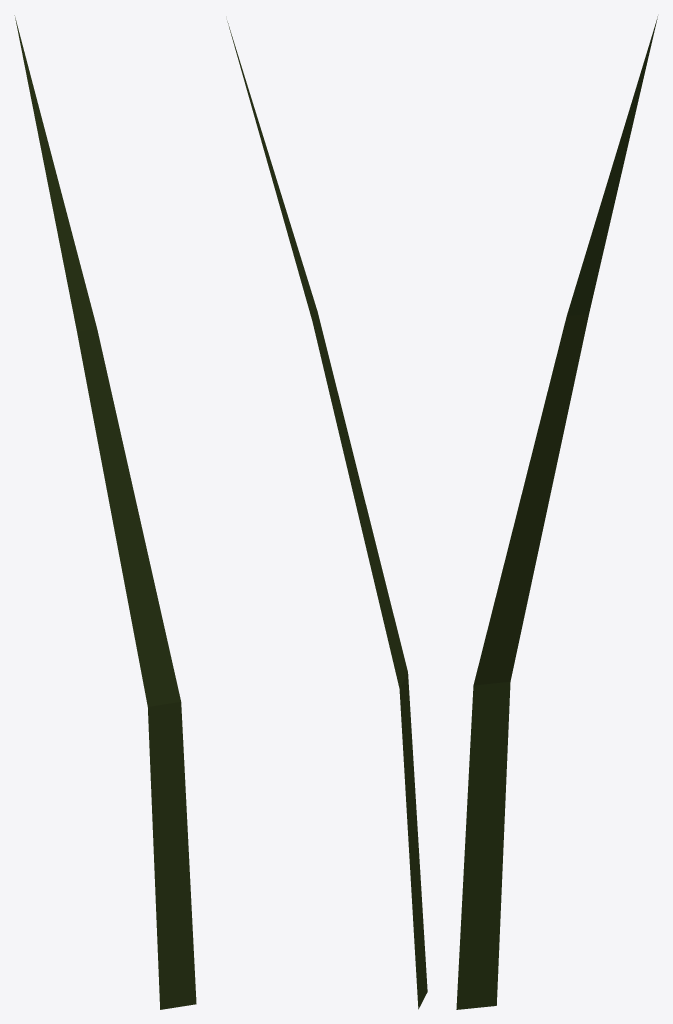
The model's file is grass1.fbx.
The picture shows the model from 3 angles, left to right: view 1: azimuth 90°, elevation 25°; view 2: azimuth 150°, elevation 25°; view 3: azimuth 270°, elevation 25°; orthographic projection. The views are drawn at different scales.
Visible parts, largest first — view 1: grass 1; view 2: grass 1; view 3: grass 1.
Part boxes in pixels (bbox=[...]): grass 1: bbox=[14, 15, 196, 1009]; grass 1: bbox=[227, 21, 427, 1009]; grass 1: bbox=[456, 16, 657, 1009].
Size of the model in its own units: 29.32 by 252 by 44.08.
